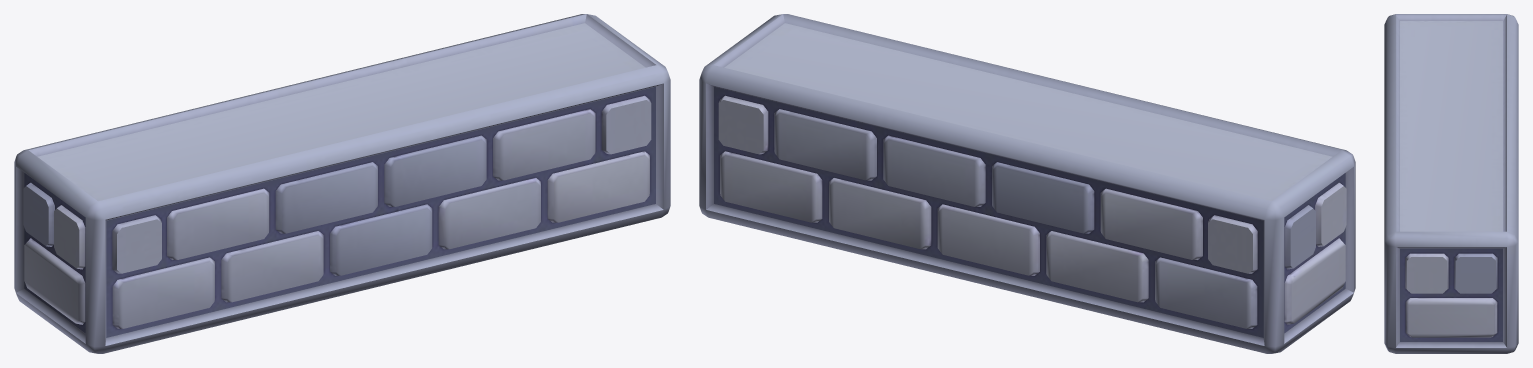
The model's file is tas4.glb.
The picture shows the model from 3 angles, left to right: view 1: azimuth 30°, elevation 25°; view 2: azimuth 150°, elevation 25°; view 3: azimuth 270°, elevation 25°; orthographic projection. The views are drawn at different scales.
Visible parts, largest first — view 1: tas4; view 2: tas4; view 3: tas4.
Part boxes in pixels (left/top/right/bottom): tas4: left=14, top=14, right=670, bottom=353; tas4: left=699, top=14, right=1355, bottom=353; tas4: left=1384, top=14, right=1518, bottom=353.
Bounding box in the file's own units: 6.14 × 1.53 × 1.53.
Materials: 1 (1 with a texture image).
